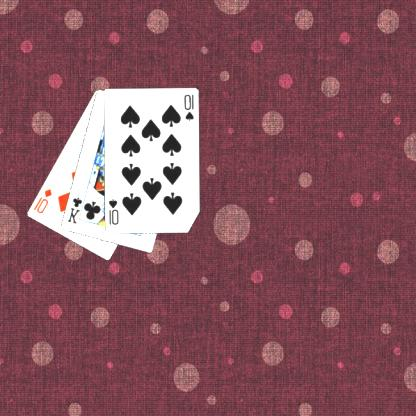10D: (32, 186, 55, 215)
10S: (183, 91, 197, 123), (108, 196, 122, 226)
KC: (67, 194, 89, 226)
